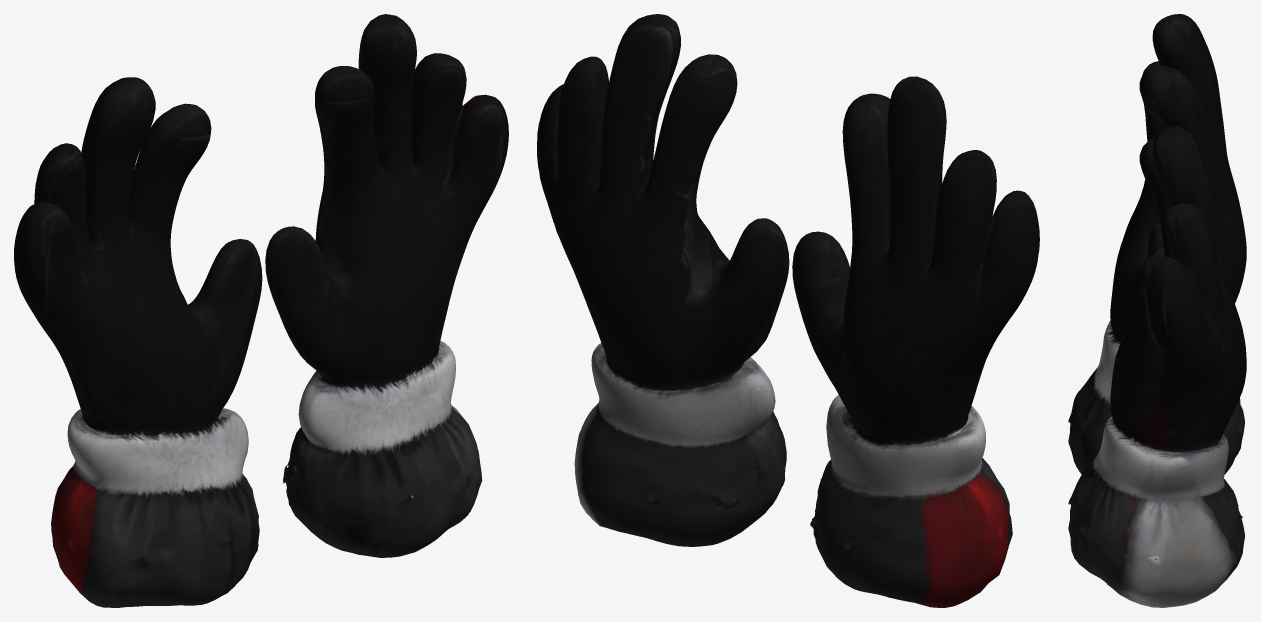
The model's file is screne.gltf.
3 renders of one model, left to right at view 1: azimuth 30°, elevation 25°; view 2: azimuth 150°, elevation 25°; view 3: azimuth 270°, elevation 25°, orthographic. The views are drawn at different scales.
Parts seen in each view (by area): view 1: Object_4; view 2: Object_4; view 3: Object_4.
Part boxes in pixels (x1,y1,x2,y2): Object_4: [14, 14, 508, 607]; Object_4: [537, 14, 1039, 607]; Object_4: [1068, 14, 1246, 607].
Bounding box in the file's own units: 1.97 × 1.97 × 0.6884.
Materials: 1 (1 with a texture image).
